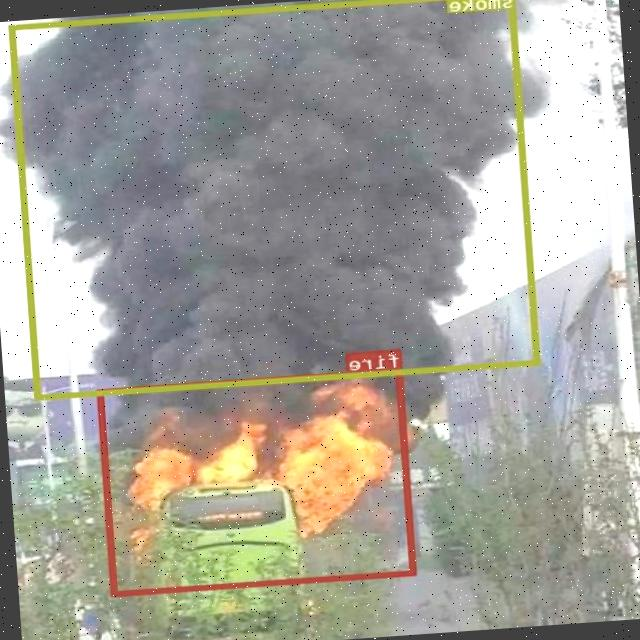fire: (97, 367, 418, 594)
smoke: (10, 0, 541, 398)
